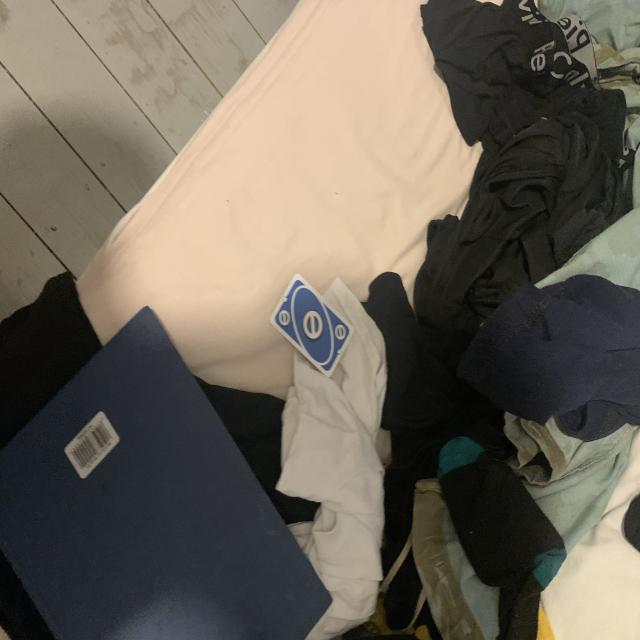lblueskip-20: (278, 308, 292, 332)
